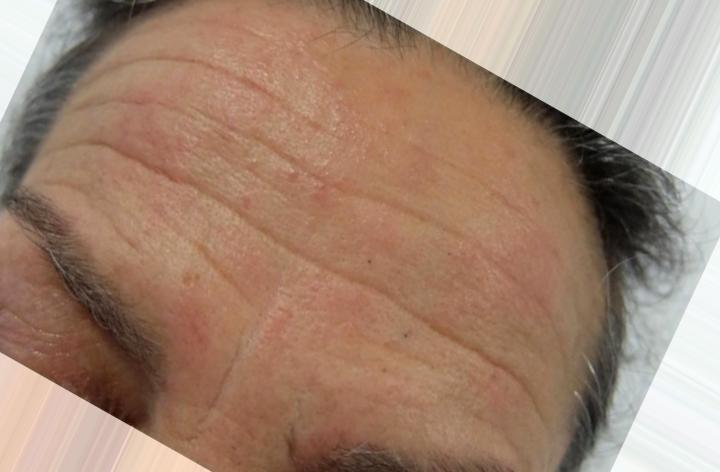Contact Dermatitis: (119, 61, 568, 334)
